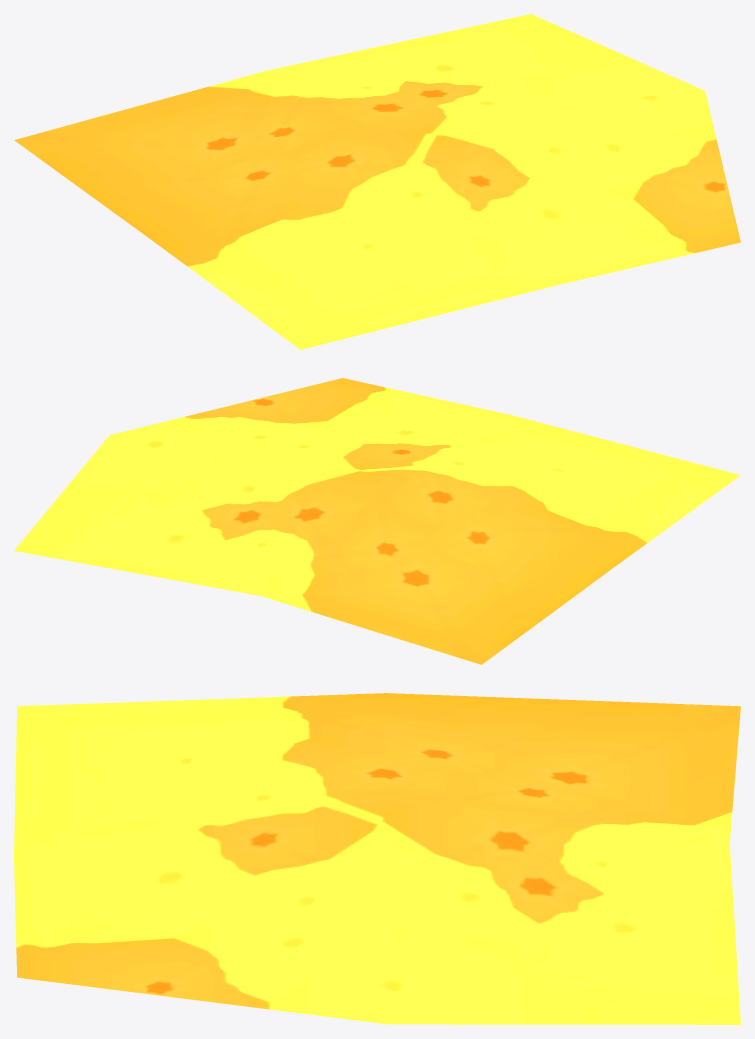
File: SM_Env_Flowers_Flat_03.glb
3 renders of one model, top to bottom at view 1: azimuth 30°, elevation 25°; view 2: azimuth 150°, elevation 25°; view 3: azimuth 270°, elevation 25°, orthographic. The views are drawn at different scales.
Parts seen in each view (by area): view 1: SM_Env_Flowers_Flat_03; view 2: SM_Env_Flowers_Flat_03; view 3: SM_Env_Flowers_Flat_03.
Part boxes in pixels (x1,y1,x2,y2): SM_Env_Flowers_Flat_03: (14,14,740,349); SM_Env_Flowers_Flat_03: (14,378,740,664); SM_Env_Flowers_Flat_03: (14,693,740,1024).
Size of the model in its own units: 2.25 by 0.1789 by 2.01.
Materials: 1 (1 with a texture image).
